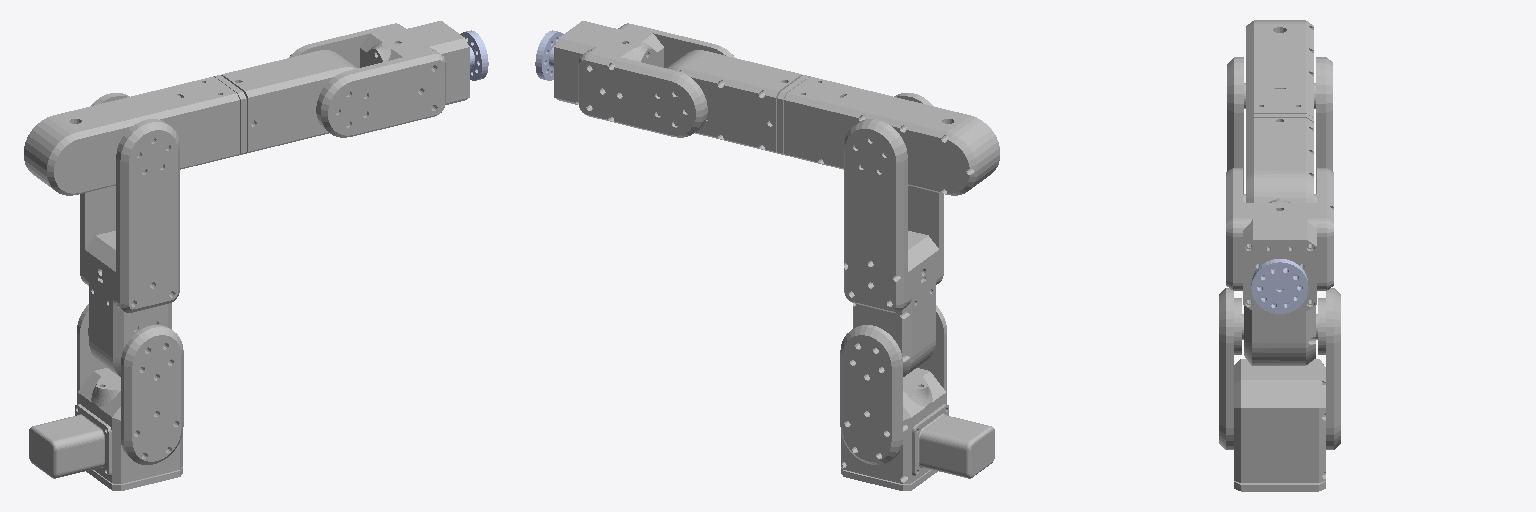
The robot description file, URDF, robot "bcr1_description":
<?xml version="1.0" encoding="utf-8" ?>
<!-- This URDF was automatically created by SolidWorks to URDF Exporter! Originally created by [author] ([email redacted]) 
     Commit Version: 1.6.0-1-g15f4949  Build Version: 1.6.7594.29634
     For more information, please see http://wiki.ros.org/sw_urdf_exporter -->
<robot name="bcr1_description">
    <link name="Link_1">
        <visual>
            <origin xyz="0 0 0" rpy="0 0 0" />
            <geometry>
                <mesh filename="package://bcr1_description/meshes/Link_1.STL" />
            </geometry>
            <material name="">
                <color rgba="0.75294 0.75294 0.75294 1" />
            </material>
        </visual>
        <collision>
            <origin xyz="0 0 0" rpy="0 0 0" />
            <geometry>
                <mesh filename="package://bcr1_description/meshes/Link_1.STL" />
            </geometry>
        </collision>
    </link>
    <link name="Link_2">
        <visual>
            <origin xyz="0 0 0" rpy="0 0 0" />
            <geometry>
                <mesh filename="package://bcr1_description/meshes/Link_2.STL" />
            </geometry>
            <material name="">
                <color rgba="0.75294 0.75294 0.75294 1" />
            </material>
        </visual>
        <collision>
            <origin xyz="0 0 0" rpy="0 0 0" />
            <geometry>
                <mesh filename="package://bcr1_description/meshes/Link_2.STL" />
            </geometry>
        </collision>
    </link>
    <joint name="Joint_1" type="revolute">
        <origin xyz="0 0 0.1515" rpy="0 0 0" />
        <parent link="Link_1" />
        <child link="Link_2" />
        <axis xyz="0 0 1" />
        <limit lower="-2.79253" upper="2.79253" effort="0" velocity="0" />
    </joint>
    <link name="Link_3">
        <visual>
            <origin xyz="0 0 0" rpy="0 0 0" />
            <geometry>
                <mesh filename="package://bcr1_description/meshes/Link_3.STL" />
            </geometry>
            <material name="">
                <color rgba="0.75294 0.75294 0.75294 1" />
            </material>
        </visual>
        <collision>
            <origin xyz="0 0 0" rpy="0 0 0" />
            <geometry>
                <mesh filename="package://bcr1_description/meshes/Link_3.STL" />
            </geometry>
        </collision>
    </link>
    <joint name="Joint_2" type="revolute">
        <origin xyz="0 0 0.11202" rpy="-1.5708 0 0" />
        <parent link="Link_2" />
        <child link="Link_3" />
        <axis xyz="0 0 1" />
        <limit lower="-1.5708" upper="1.5708" effort="0" velocity="0" />
    </joint>
    <link name="Link_4">
        <visual>
            <origin xyz="0 0 0" rpy="0 0 0" />
            <geometry>
                <mesh filename="package://bcr1_description/meshes/Link_4.STL" />
            </geometry>
            <material name="">
                <color rgba="0.75294 0.75294 0.75294 1" />
            </material>
        </visual>
        <collision>
            <origin xyz="0 0 0" rpy="0 0 0" />
            <geometry>
                <mesh filename="package://bcr1_description/meshes/Link_4.STL" />
            </geometry>
        </collision>
    </link>
    <joint name="Joint_3" type="revolute">
        <origin xyz="0 -0.178 0" rpy="0 0 -1.5708" />
        <parent link="Link_3" />
        <child link="Link_4" />
        <axis xyz="0 0 1" />
        <limit lower="-3.1416" upper="0.7854" effort="0" velocity="0" />
    </joint>
    <link name="Link_5">
        <visual>
            <origin xyz="0 0 0" rpy="0 0 0" />
            <geometry>
                <mesh filename="package://bcr1_description/meshes/Link_5.STL" />
            </geometry>
            <material name="">
                <color rgba="0.75294 0.75294 0.75294 1" />
            </material>
        </visual>
        <collision>
            <origin xyz="0 0 0" rpy="0 0 0" />
            <geometry>
                <mesh filename="package://bcr1_description/meshes/Link_5.STL" />
            </geometry>
        </collision>
    </link>
    <joint name="Joint_4" type="revolute">
        <origin xyz="0 0.081 0" rpy="-1.5708 0 0" />
        <parent link="Link_4" />
        <child link="Link_5" />
        <axis xyz="0 0 -1" />
        <limit lower="-3.14159" upper="3.14159" effort="0" velocity="0" />
    </joint>
    <link name="Link_6">
        <visual>
            <origin xyz="0 0 0" rpy="0 0 0" />
            <geometry>
                <mesh filename="package://bcr1_description/meshes/Link_6.STL" />
            </geometry>
            <material name="">
                <color rgba="0.75294 0.75294 0.75294 1" />
            </material>
        </visual>
        <collision>
            <origin xyz="0 0 0" rpy="0 0 0" />
            <geometry>
                <mesh filename="package://bcr1_description/meshes/Link_6.STL" />
            </geometry>
        </collision>
    </link>
    <joint name="Joint_5" type="revolute">
        <origin xyz="0 0 0.10259" rpy="1.5708 0 0" />
        <parent link="Link_5" />
        <child link="Link_6" />
        <axis xyz="0 0 1" />
        <limit lower="-2.26893" upper="2.26893" effort="0" velocity="0" />
    </joint>
    <link name="Link_7">
        <visual>
            <origin xyz="0 0 0" rpy="0 0 0" />
            <geometry>
                <mesh filename="package://bcr1_description/meshes/Link_7.STL" />
            </geometry>
            <material name="">
                <color rgba="0.79216 0.81961 0.93333 1" />
            </material>
        </visual>
        <collision>
            <origin xyz="0 0 0" rpy="0 0 0" />
            <geometry>
                <mesh filename="package://bcr1_description/meshes/Link_7.STL" />
            </geometry>
        </collision>
    </link>
    <joint name="Joint_6" type="revolute">
        <origin xyz="0 0.1155 0" rpy="-1.5708 0 0" />
        <parent link="Link_6" />
        <child link="Link_7" />
        <axis xyz="0 0 1" />
        <limit lower="-3.14159" upper="3.14159" effort="0" velocity="0" />
    </joint>
    <transmission name="trans_Joint_1">
        <type>transmission_interface/SimpleTransmission</type>
        <joint name="Joint_1">
            <hardwareInterface>hardware_interface/EffortJointInterface</hardwareInterface>
        </joint>
        <actuator name="Joint_1_motor">
            <hardwareInterface>hardware_interface/EffortJointInterface</hardwareInterface>
            <mechanicalReduction>1</mechanicalReduction>
        </actuator>
    </transmission>
    <transmission name="trans_Joint_2">
        <type>transmission_interface/SimpleTransmission</type>
        <joint name="Joint_2">
            <hardwareInterface>hardware_interface/EffortJointInterface</hardwareInterface>
        </joint>
        <actuator name="Joint_2_motor">
            <hardwareInterface>hardware_interface/EffortJointInterface</hardwareInterface>
            <mechanicalReduction>1</mechanicalReduction>
        </actuator>
    </transmission>
    <transmission name="trans_Joint_3">
        <type>transmission_interface/SimpleTransmission</type>
        <joint name="Joint_3">
            <hardwareInterface>hardware_interface/EffortJointInterface</hardwareInterface>
        </joint>
        <actuator name="Joint_3_motor">
            <hardwareInterface>hardware_interface/EffortJointInterface</hardwareInterface>
            <mechanicalReduction>1</mechanicalReduction>
        </actuator>
    </transmission>
    <transmission name="trans_Joint_4">
        <type>transmission_interface/SimpleTransmission</type>
        <joint name="Joint_4">
            <hardwareInterface>hardware_interface/EffortJointInterface</hardwareInterface>
        </joint>
        <actuator name="Joint_4_motor">
            <hardwareInterface>hardware_interface/EffortJointInterface</hardwareInterface>
            <mechanicalReduction>1</mechanicalReduction>
        </actuator>
    </transmission>
    <transmission name="trans_Joint_5">
        <type>transmission_interface/SimpleTransmission</type>
        <joint name="Joint_5">
            <hardwareInterface>hardware_interface/EffortJointInterface</hardwareInterface>
        </joint>
        <actuator name="Joint_5_motor">
            <hardwareInterface>hardware_interface/EffortJointInterface</hardwareInterface>
            <mechanicalReduction>1</mechanicalReduction>
        </actuator>
    </transmission>
    <transmission name="trans_Joint_6">
        <type>transmission_interface/SimpleTransmission</type>
        <joint name="Joint_6">
            <hardwareInterface>hardware_interface/EffortJointInterface</hardwareInterface>
        </joint>
        <actuator name="Joint_6_motor">
            <hardwareInterface>hardware_interface/EffortJointInterface</hardwareInterface>
            <mechanicalReduction>1</mechanicalReduction>
        </actuator>
    </transmission>
    <gazebo>
        <plugin name="gazebo_ros_control">
            <robotNamespace>/</robotNamespace>
        </plugin>
    </gazebo>
</robot>

--- What the picture shows (computed from the rendered views, not written in the file) ---
Views: 3 orthographic renders of the robot side by side, from view 1: azimuth 30°, elevation 25°; view 2: azimuth 150°, elevation 25°; view 3: azimuth 270°, elevation 25°.
Robot: bcr1_description — 7 links, 6 joints (6 revolute); root link Link_1; default pose: all joints at 0.
Links seen in each view (by area): view 1: Link_3, Link_2, Link_4, Link_6, Link_5, Link_7; view 2: Link_3, Link_2, Link_4, Link_6, Link_5, Link_7; view 3: Link_2, Link_6, Link_3, Link_4, Link_5, Link_7.
Link boxes in pixels (x1,y1,x2,y2): Link_3: (80,93,179,376); Link_2: (29,304,183,490); Link_4: (24,75,246,195); Link_6: (289,21,469,137); Link_5: (221,50,356,153); Link_7: (460,30,488,80); Link_3: (844,93,943,376); Link_2: (840,305,994,490); Link_4: (777,75,999,195); Link_6: (554,21,734,137); Link_5: (667,50,802,153); Link_7: (535,30,563,80); Link_2: (1219,288,1340,491); Link_6: (1226,168,1333,310); Link_3: (1227,57,1332,365); Link_4: (1246,20,1313,122); Link_5: (1246,118,1313,202); Link_7: (1251,259,1308,313).
Bounding box of the posed robot: 0.4056 × 0.085 × 0.3175 m (x, y, z).
Meshes: 7 distinct files referenced, 6 mesh visuals loaded (6 binary STL); not drawn: 1 (reference not matched to a file when rendering).